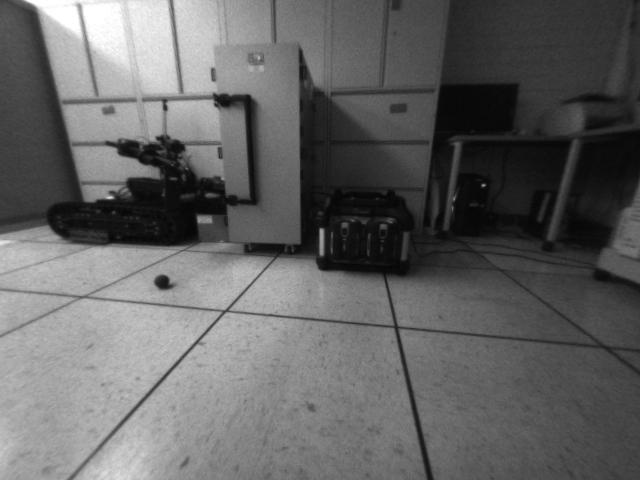dogtoy: (150, 269, 175, 293)
